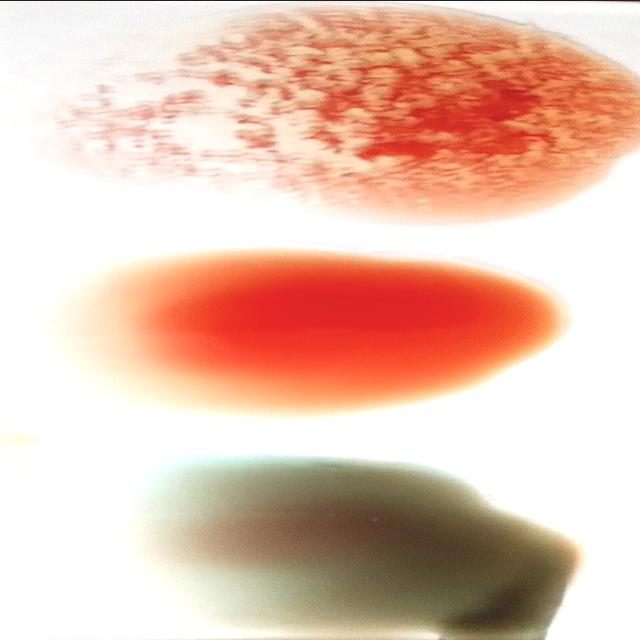D: (63, 14, 618, 212)
